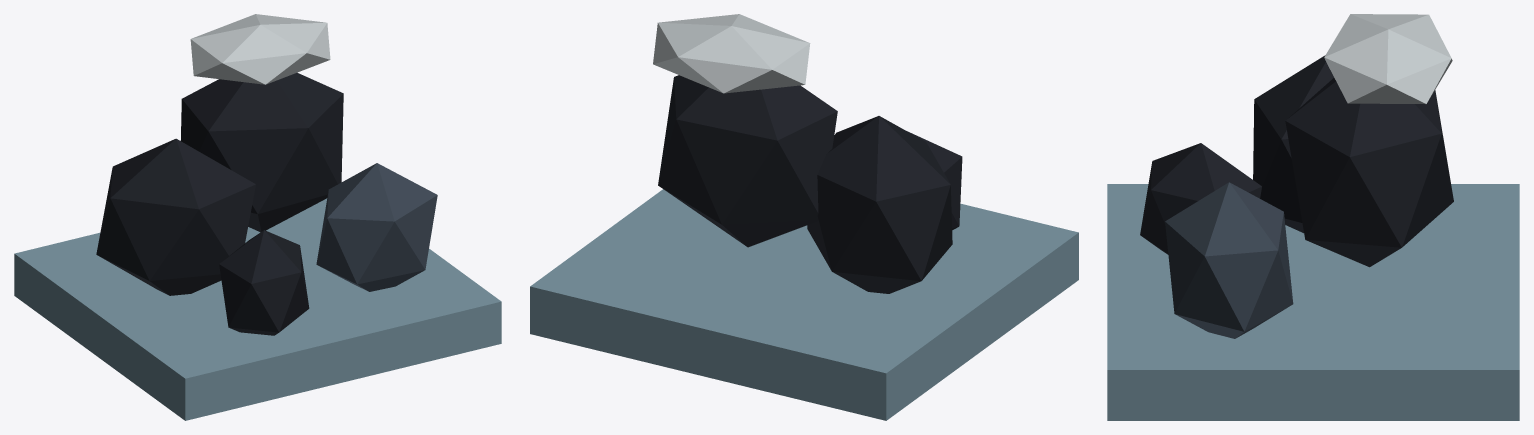
Rendered from coal_seam.glb.
The picture shows the model from 3 angles, left to right: view 1: azimuth 30°, elevation 25°; view 2: azimuth 150°, elevation 25°; view 3: azimuth 270°, elevation 25°; orthographic projection. The views are drawn at different scales.
Parts seen in each view (by area): view 1: coal_seam; view 2: coal_seam; view 3: coal_seam.
Boxes of the visible parts, x1=… form: coal_seam: x1=14, y1=14, x2=501, y2=420; coal_seam: x1=530, y1=14, x2=1078, y2=420; coal_seam: x1=1107, y1=14, x2=1519, y2=420.
Size of the model in its own units: 0.94 by 0.75 by 0.88.
